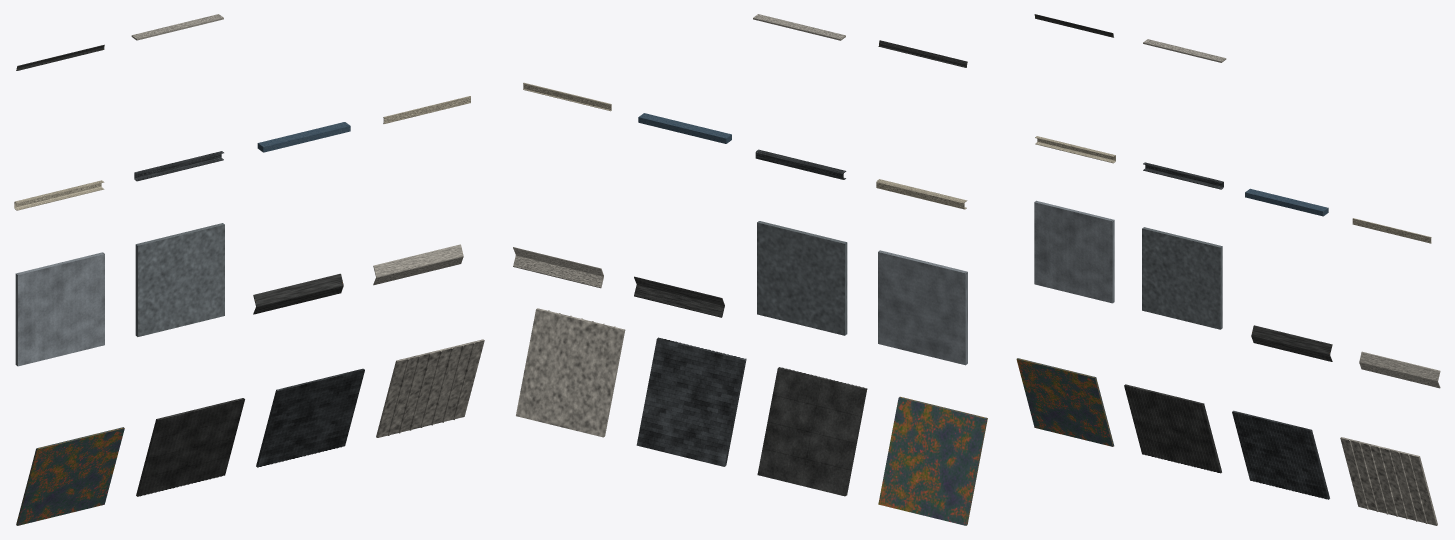
Rendered from PROJECT_Z_RoofKit.glb.
3 renders of one model, left to right at view 1: azimuth 30°, elevation 25°; view 2: azimuth 150°, elevation 25°; view 3: azimuth 330°, elevation 25°, orthographic. The views are drawn at different scales.
Parts seen in each view (by area): view 1: PART_Flat_BitumenMembrane_4x4, PART_Flat_GravelRoof_4x4, PART_Pitched_GalvanizedCorrugated_4x4, PART_Pitched_RustedCorrugated_4x4, PART_Pitched_StandingSeam_4x4, PART_Pitched_ShingleRoof_4x4, PART_RidgeCap_Galvanized_4m, PART_RidgeCap_Painted_4m, PART_Parapet_Concrete_4m, PART_Gutter_Galvanized_4m, PART_Gutter_Rusted_4m, PART_Parapet_MetalCoping_4m (+1 smaller); view 2: PART_Pitched_GalvanizedCorrugated_4x4, PART_Pitched_RustedCorrugated_4x4, PART_Pitched_StandingSeam_4x4, PART_Pitched_ShingleRoof_4x4, PART_Flat_GravelRoof_4x4, PART_Flat_BitumenMembrane_4x4, PART_RidgeCap_Painted_4m, PART_RidgeCap_Galvanized_4m, PART_Parapet_Concrete_4m, PART_Gutter_Galvanized_4m, PART_Gutter_Rusted_4m, PART_Parapet_MetalCoping_4m (+2 smaller); view 3: PART_Flat_BitumenMembrane_4x4, PART_Flat_GravelRoof_4x4, PART_Pitched_RustedCorrugated_4x4, PART_Pitched_GalvanizedCorrugated_4x4, PART_Pitched_StandingSeam_4x4, PART_Pitched_ShingleRoof_4x4, PART_RidgeCap_Galvanized_4m, PART_RidgeCap_Painted_4m, PART_Parapet_Concrete_4m, PART_Gutter_Rusted_4m, PART_Gutter_Galvanized_4m, PART_Parapet_MetalCoping_4m (+1 smaller).
Part boxes in pixels (x1,y1,x2,y2): PART_Flat_BitumenMembrane_4x4: [15, 252, 104, 366]; PART_Flat_GravelRoof_4x4: [135, 223, 224, 336]; PART_Pitched_GalvanizedCorrugated_4x4: [136, 398, 244, 496]; PART_Pitched_RustedCorrugated_4x4: [256, 368, 364, 467]; PART_Pitched_StandingSeam_4x4: [376, 339, 484, 437]; PART_Pitched_ShingleRoof_4x4: [16, 427, 124, 525]; PART_RidgeCap_Galvanized_4m: [253, 273, 343, 314]; PART_RidgeCap_Painted_4m: [373, 244, 463, 285]; PART_Parapet_Concrete_4m: [257, 122, 350, 152]; PART_Gutter_Galvanized_4m: [14, 180, 104, 210]; PART_Gutter_Rusted_4m: [134, 151, 223, 181]; PART_Parapet_MetalCoping_4m: [383, 96, 470, 123]; PART_Pitched_GalvanizedCorrugated_4x4: [757, 367, 867, 496]; PART_Pitched_RustedCorrugated_4x4: [636, 337, 746, 466]; PART_Pitched_StandingSeam_4x4: [516, 308, 625, 437]; PART_Pitched_ShingleRoof_4x4: [878, 396, 987, 525]; PART_Flat_GravelRoof_4x4: [757, 221, 847, 335]; PART_Flat_BitumenMembrane_4x4: [878, 250, 967, 365]; PART_RidgeCap_Painted_4m: [513, 247, 603, 288]; PART_RidgeCap_Galvanized_4m: [634, 276, 724, 317]; PART_Parapet_Concrete_4m: [638, 113, 731, 143]; PART_Gutter_Galvanized_4m: [876, 179, 967, 209]; PART_Gutter_Rusted_4m: [755, 149, 846, 179]; PART_Parapet_MetalCoping_4m: [523, 82, 611, 111]; PART_Flat_BitumenMembrane_4x4: [1034, 200, 1114, 303]; PART_Flat_GravelRoof_4x4: [1142, 227, 1222, 329]; PART_Pitched_RustedCorrugated_4x4: [1232, 410, 1329, 499]; PART_Pitched_GalvanizedCorrugated_4x4: [1124, 384, 1221, 473]; PART_Pitched_StandingSeam_4x4: [1340, 437, 1437, 525]; PART_Pitched_ShingleRoof_4x4: [1016, 358, 1114, 446]; PART_RidgeCap_Galvanized_4m: [1251, 325, 1332, 361]; PART_RidgeCap_Painted_4m: [1359, 351, 1440, 388]; PART_Parapet_Concrete_4m: [1245, 188, 1328, 216]; PART_Gutter_Rusted_4m: [1143, 162, 1223, 189]; PART_Gutter_Galvanized_4m: [1035, 136, 1115, 163]; PART_Parapet_MetalCoping_4m: [1352, 218, 1431, 243].
Size of the model in its own units: 20.5 by 20.15 by 2.13.
2 materials, 2 textured.
